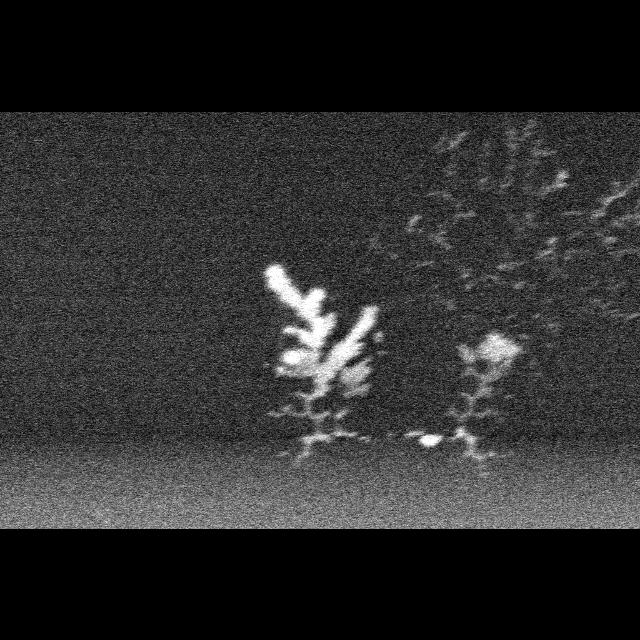dendrites: (264, 266, 378, 468), (404, 328, 556, 458), (536, 178, 640, 260), (500, 118, 569, 196), (421, 190, 477, 221), (501, 205, 538, 237), (594, 295, 638, 320), (460, 266, 508, 288), (478, 139, 494, 190), (434, 132, 467, 153), (371, 234, 399, 256), (585, 276, 626, 291), (534, 312, 558, 334), (428, 226, 452, 247), (429, 292, 458, 309), (565, 249, 598, 260), (405, 214, 424, 232), (497, 259, 528, 268), (548, 265, 568, 278), (447, 153, 458, 173), (514, 279, 538, 288), (542, 294, 569, 302), (373, 328, 385, 341), (504, 308, 518, 319), (417, 259, 435, 266), (512, 318, 526, 327)
